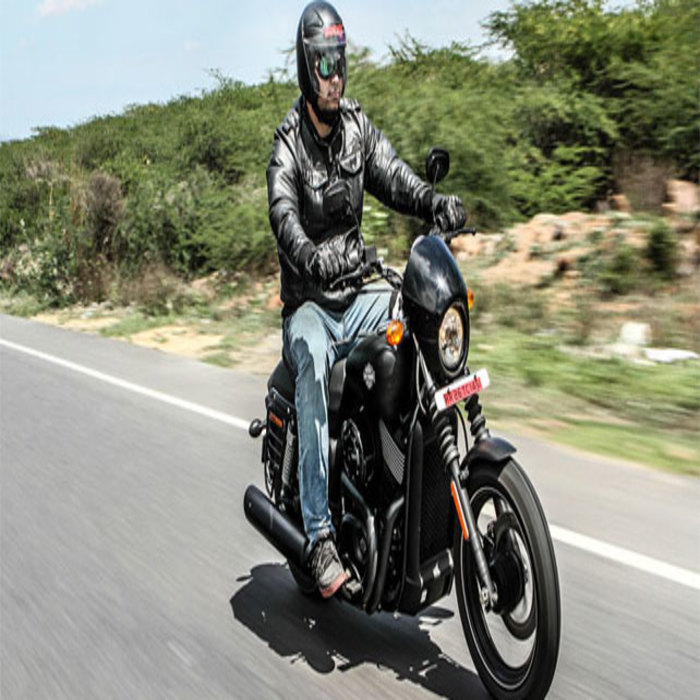h: (297, 1, 349, 114)
n: (433, 365, 492, 413)
